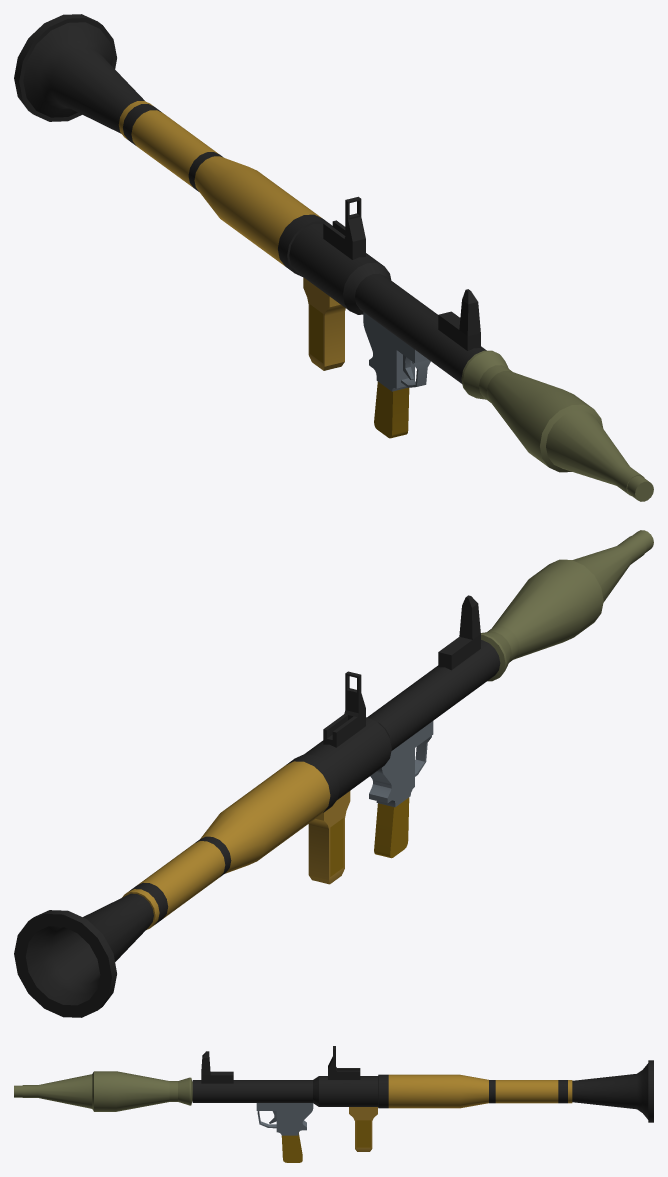
File: Gun08.fbx
3 renders of one model, top to bottom at view 1: azimuth 30°, elevation 25°; view 2: azimuth 150°, elevation 25°; view 3: azimuth 270°, elevation 25°, orthographic. The views are drawn at different scales.
Parts seen in each view (by area): view 1: Gun02, Gun01; view 2: Gun02, Gun01; view 3: Gun02, Gun01.
Boxes of the visible parts, bbox=[...] form: Gun02: bbox=[14, 14, 486, 438]; Gun01: bbox=[461, 350, 653, 501]; Gun02: bbox=[14, 595, 500, 1017]; Gun01: bbox=[481, 530, 653, 681]; Gun02: bbox=[192, 1046, 653, 1162]; Gun01: bbox=[14, 1071, 192, 1111].
Bounding box in the file's own units: 34.39 × 68.67 × 353.
